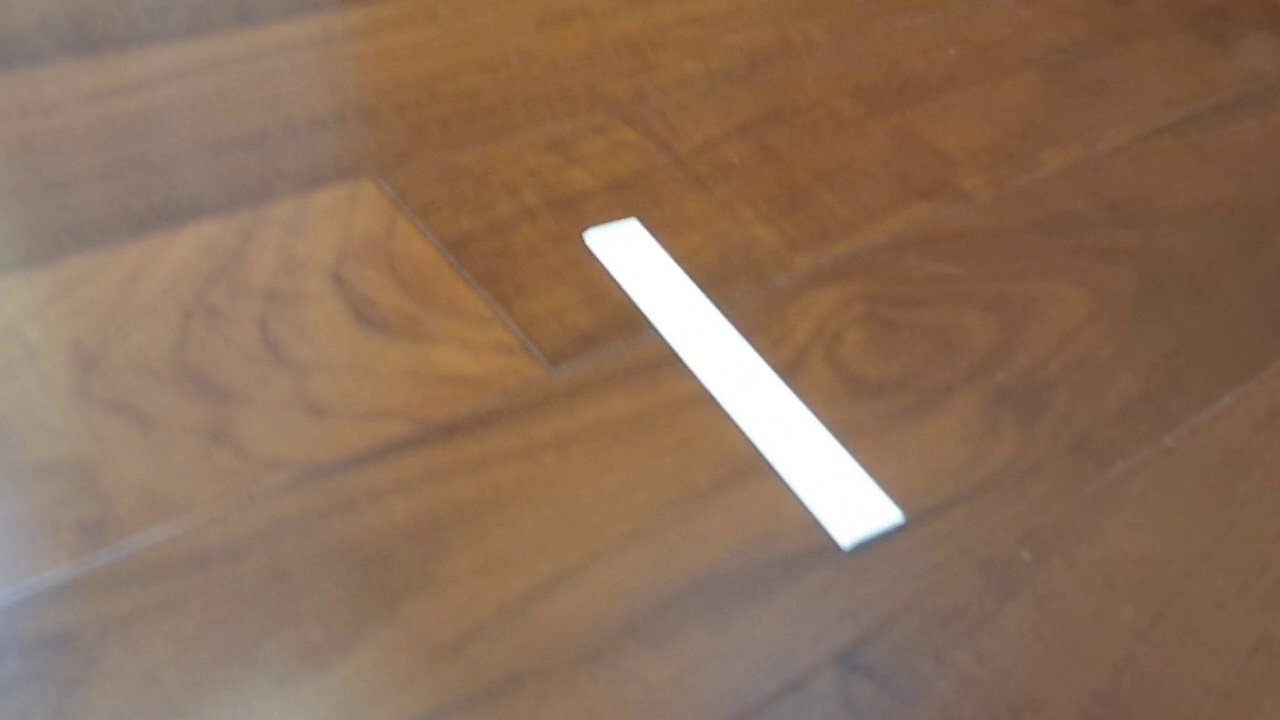ruler: (580, 214, 909, 555)
